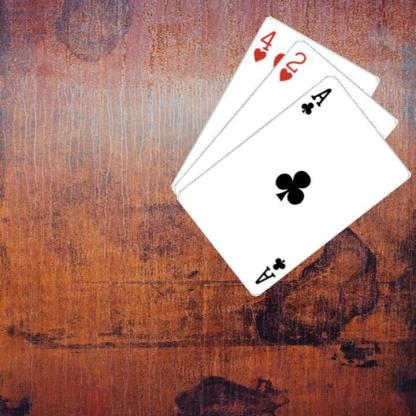2H: (276, 48, 308, 83)
4H: (250, 27, 278, 63)
AC: (252, 254, 287, 286), (298, 85, 334, 116)
